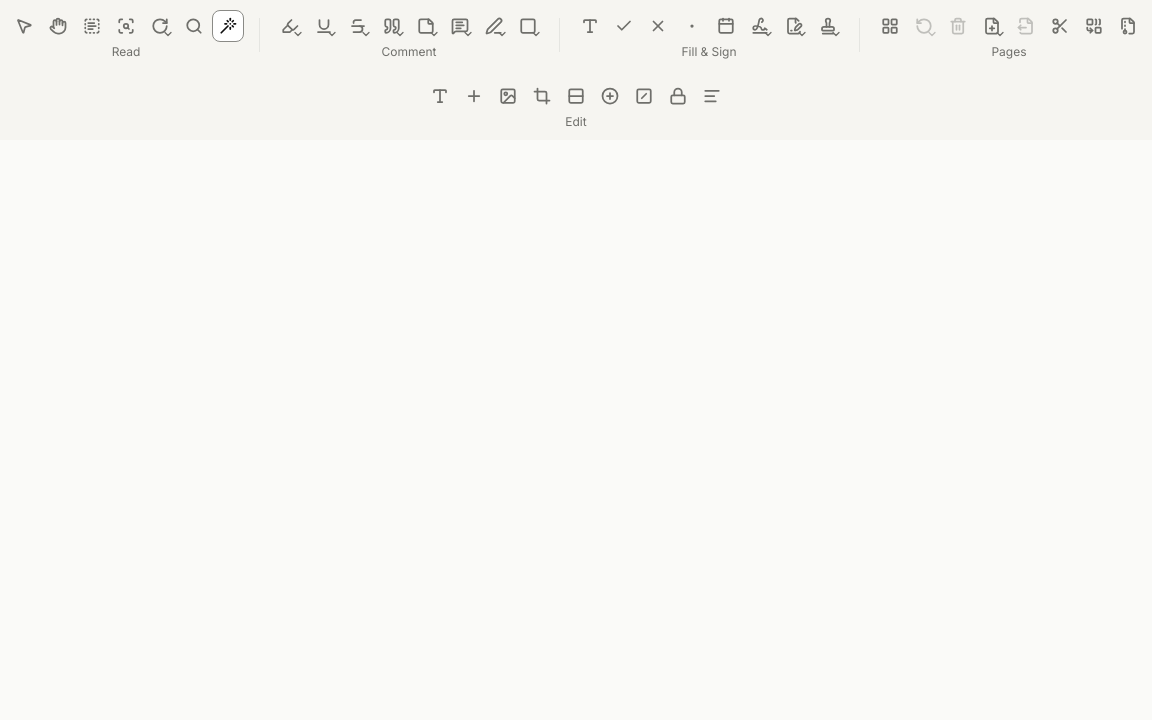
Test case: Kommentieren › the swatch row has More colours: a hex colour is applied, joins the recent ones and shows as a swatch (DESIGN 3.5 B5)
Click the button named "Options for Highlight". click: point(298, 34)
box: [292,28,304,40]
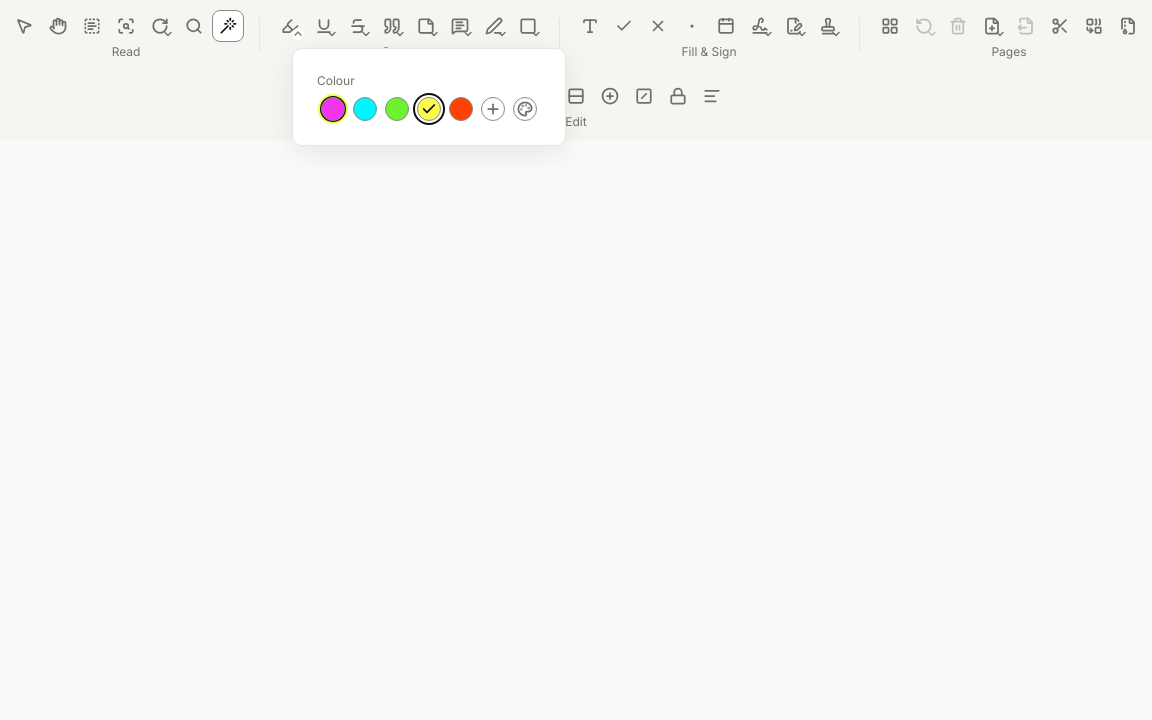
Click the button named "More colours". click: point(493, 109)
box: [481,97,505,121]
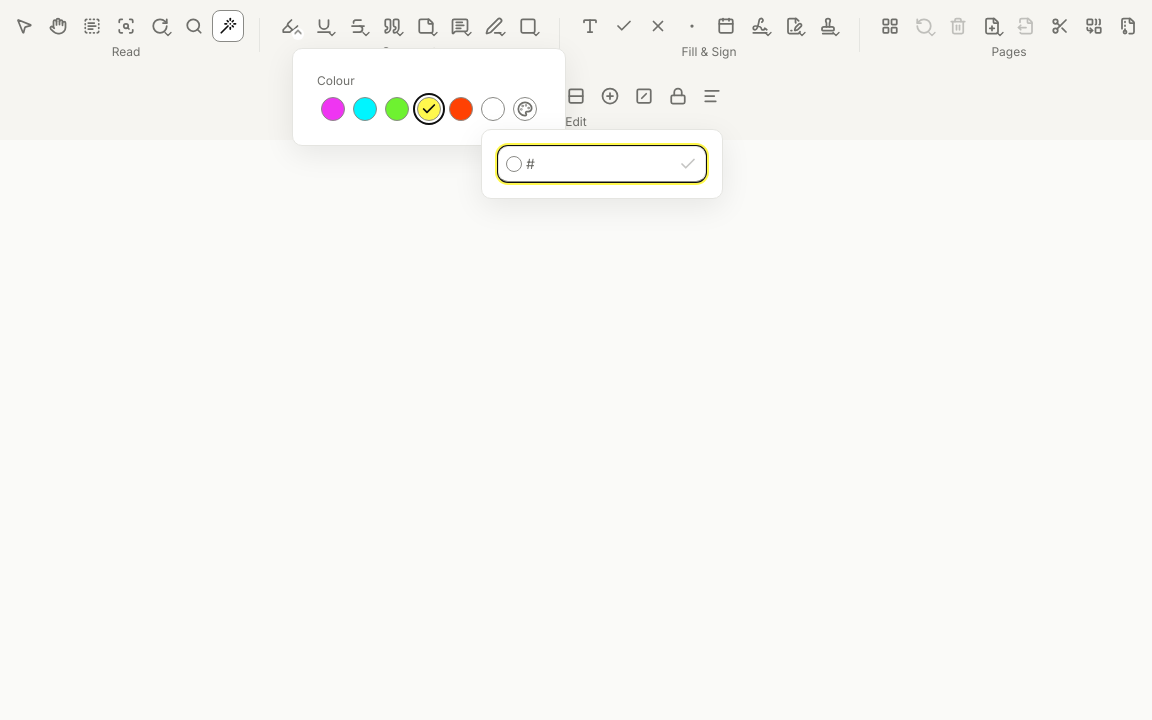
Type "1f9e6a" into the field named "Hex colour". click: point(602, 164)
box: [498,146,706,182]
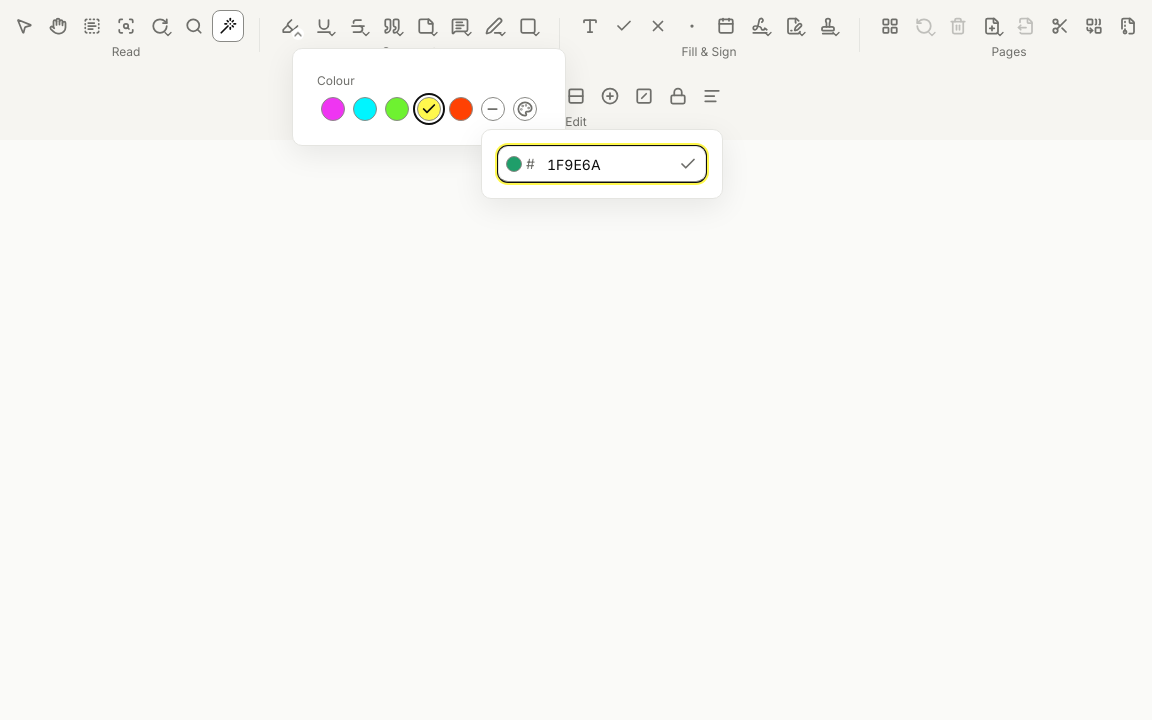
Click the button named "Apply". click: point(688, 164)
box: [674,150,702,178]
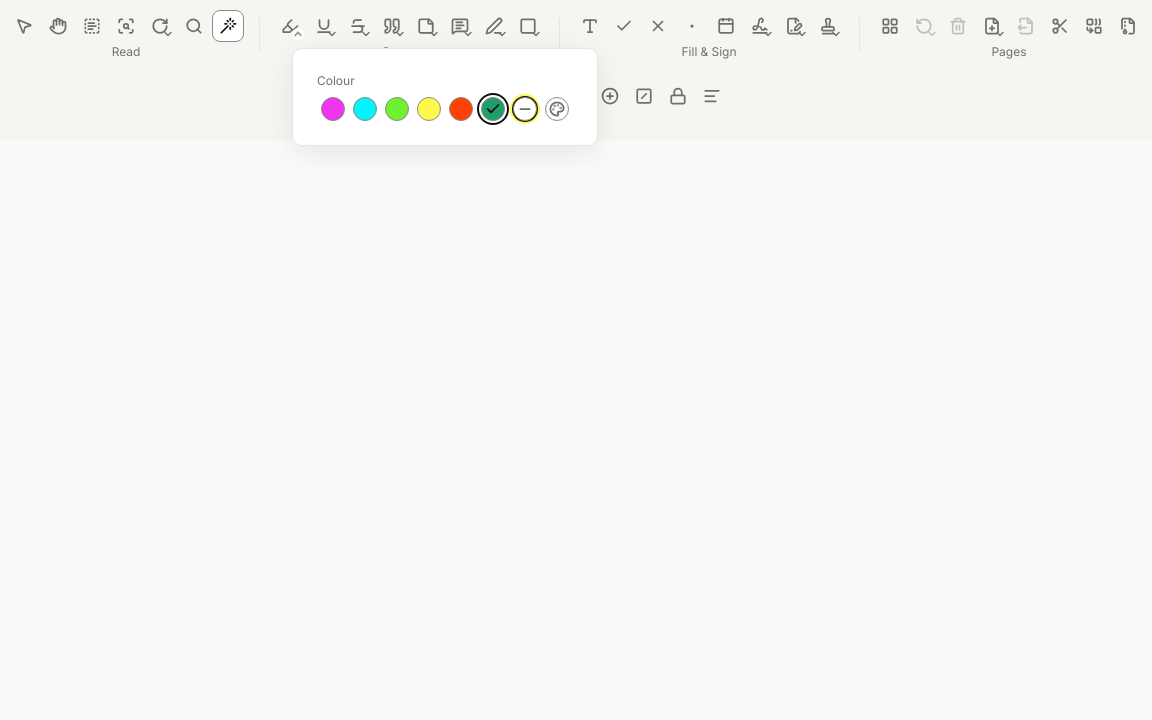
Result: the number of radio buttons is 6 at [321,97,345,121]; [353,97,377,121]; [385,97,409,121]; [417,97,441,121]; [449,97,473,121]; [481,97,505,121]
